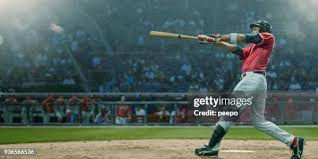baseball bat: (148, 29, 203, 43)
